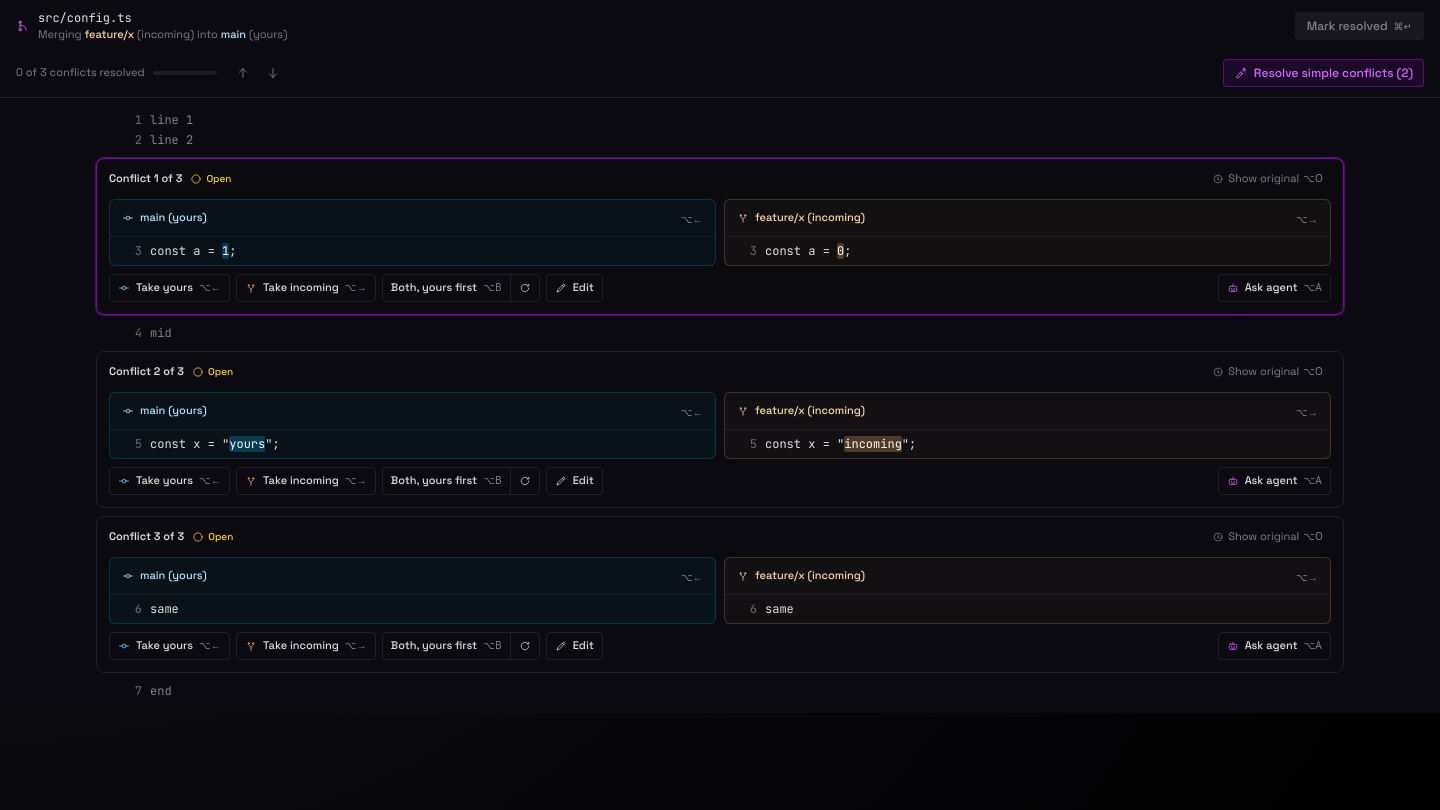
Test: MergeView › resolves only the simple conflicts with the wand, each saying why
Click the button "Resolve simple conflicts (2)": click(1323, 72) 1223,58 -> 1424,86
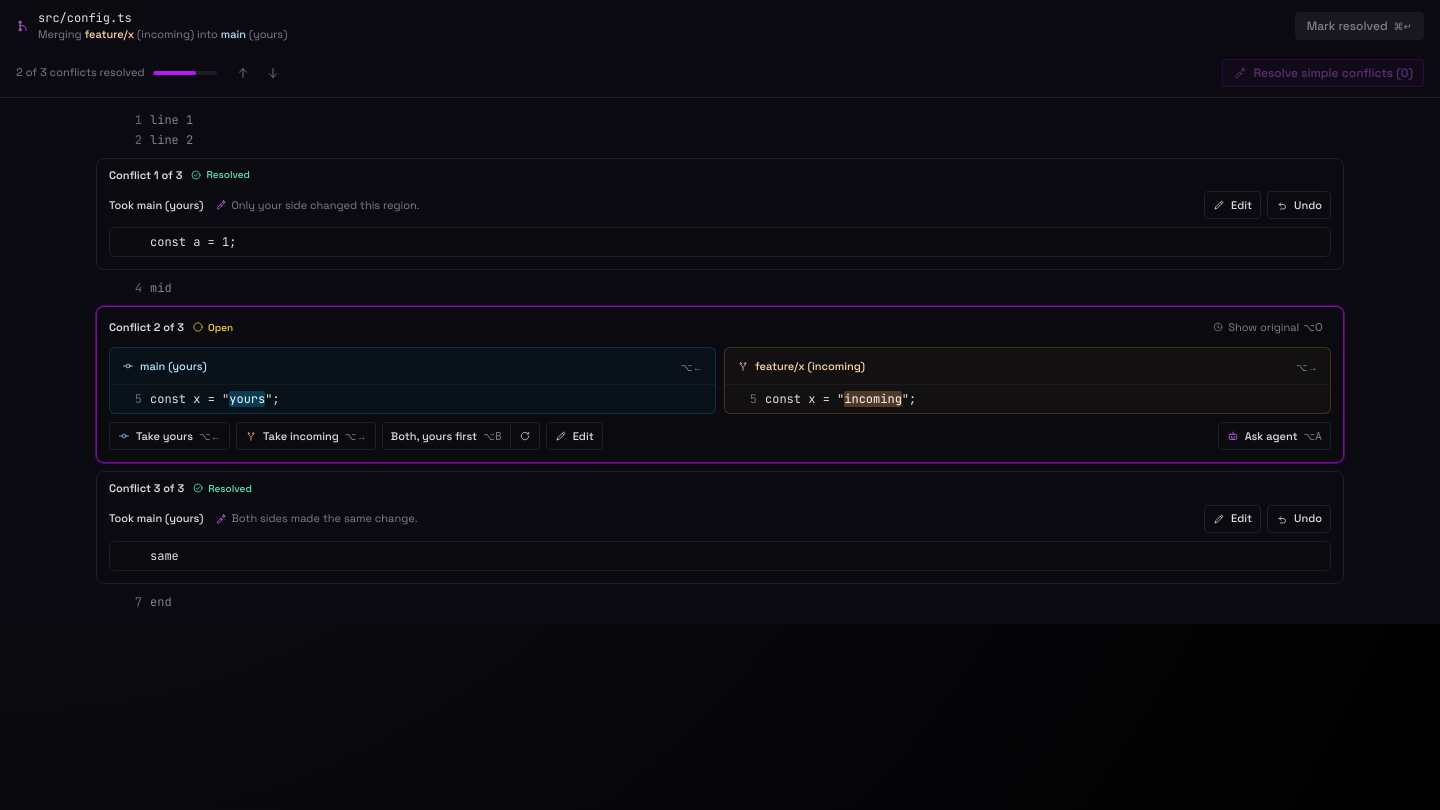
Check: the text "2 of 3 conflicts resolved" is shown, box 16,64 -> 145,81
Check: the element with test id "auto-reason" reads "Only your side changed this region.", box 232,198 -> 420,212
Check: the element with test id "auto-reason" reads "Both sides made the same change.", box 232,511 -> 417,525
